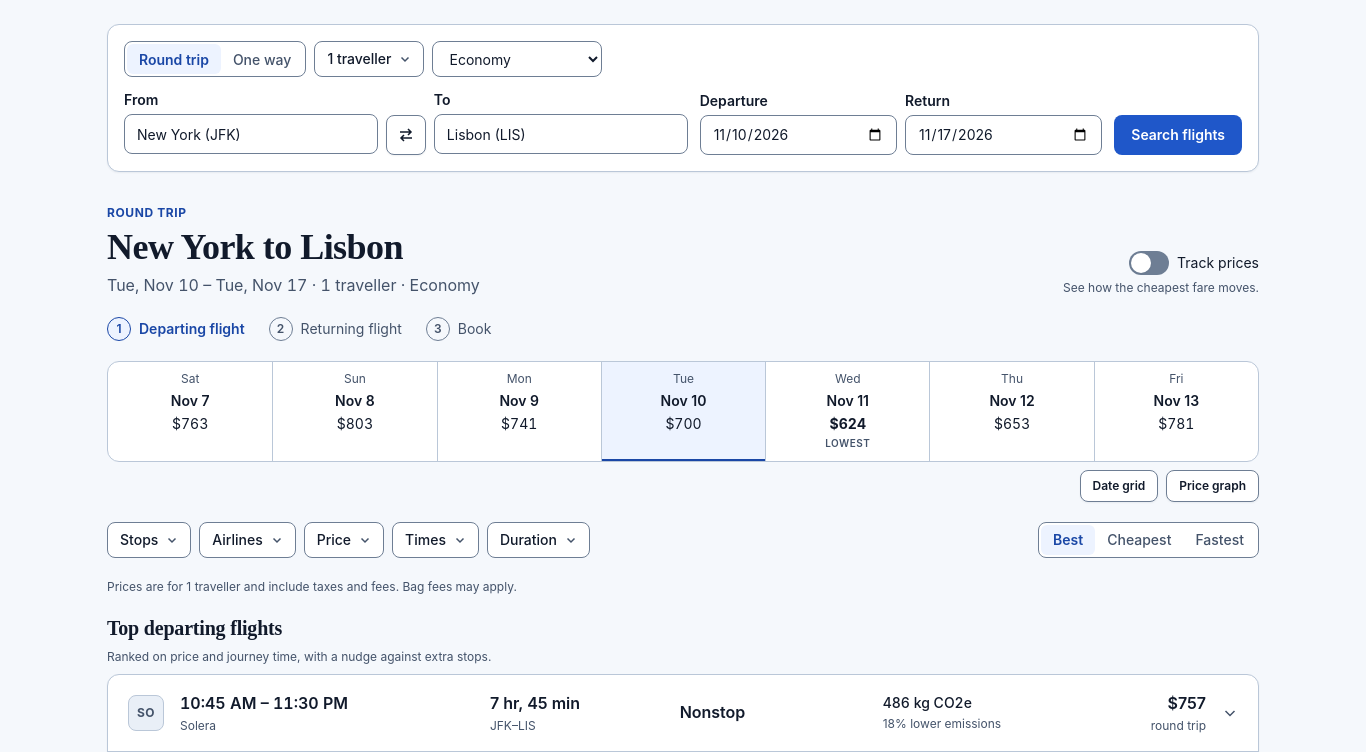
Test: FlightResultsView › tracks the search from the switch
Click the checkbox labelled "Track prices". click: (1149, 263)
box: [1129, 251, 1169, 275]
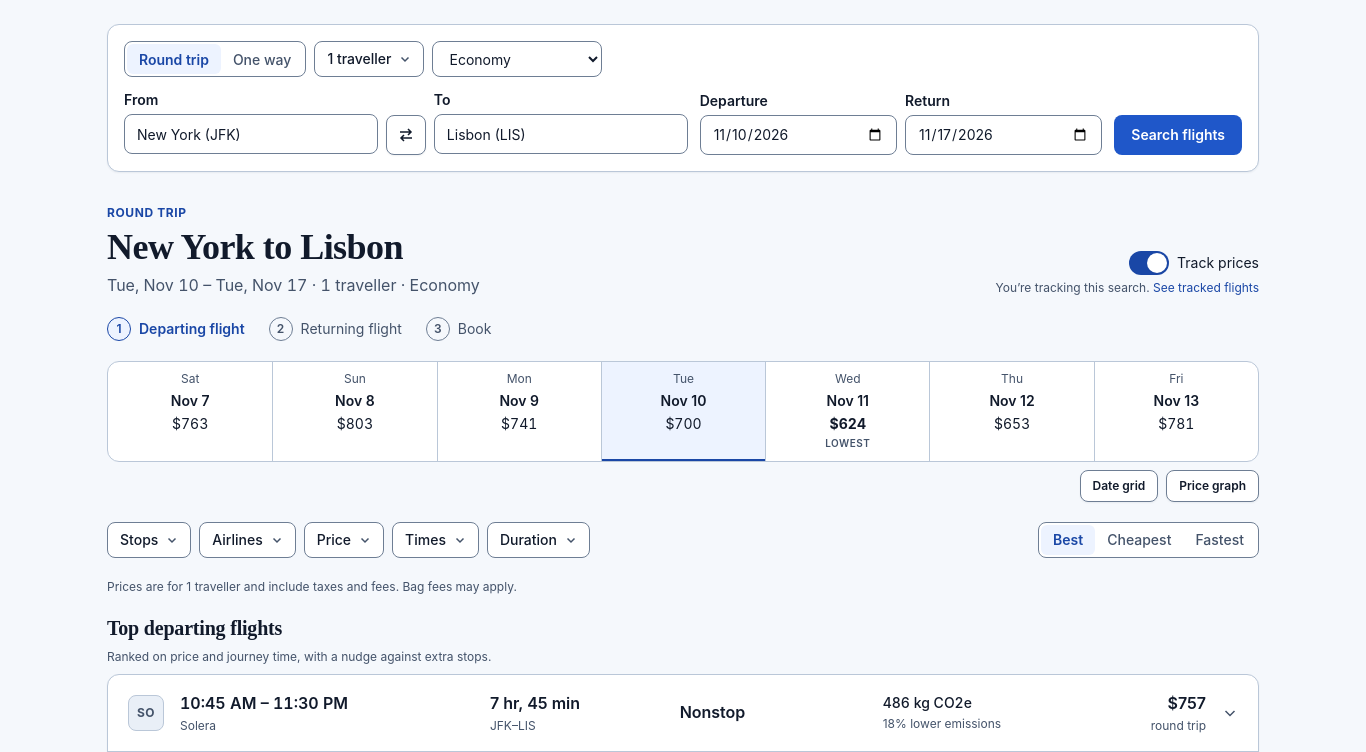
Result: the text "You’re tracking this search." is shown at [996, 280, 1153, 295]
